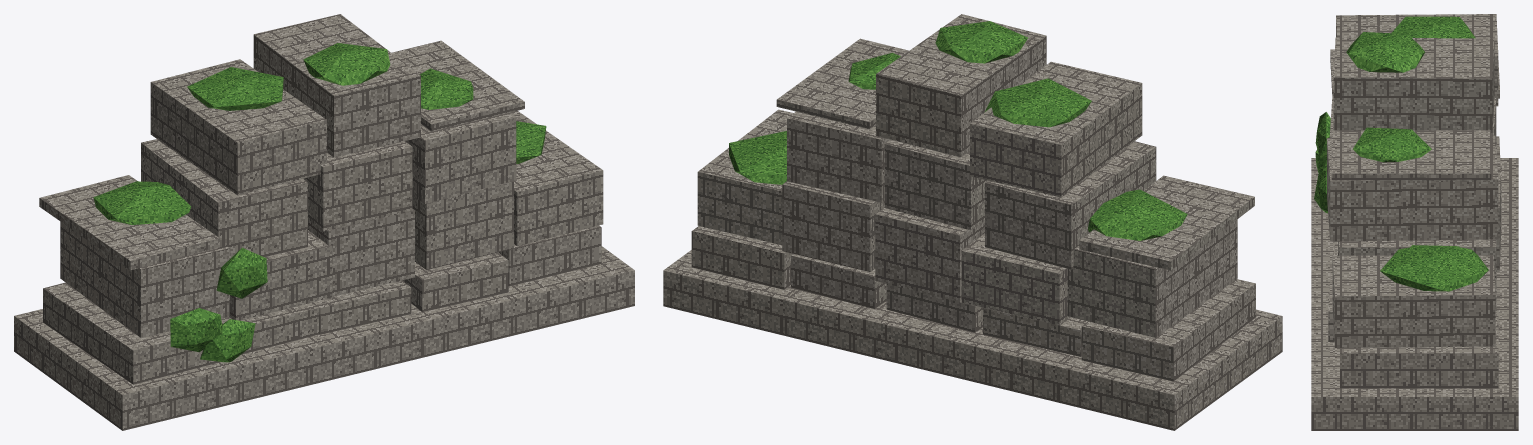
The model's file is cover_ruin_stone.glb.
The picture shows the model from 3 angles, left to right: view 1: azimuth 30°, elevation 25°; view 2: azimuth 150°, elevation 25°; view 3: azimuth 270°, elevation 25°; orthographic projection. The views are drawn at different scales.
Parts seen in each view (by area): view 1: Body.003; view 2: Body.003; view 3: Body.003.
Part boxes in pixels (x1=…): Body.003: x1=14, y1=14, x2=634, y2=430; Body.003: x1=663, y1=14, x2=1282, y2=430; Body.003: x1=1311, y1=14, x2=1518, y2=430.
Bounding box in the file's own units: 3 × 1.61 × 1.1.
2 materials, 2 textured.
